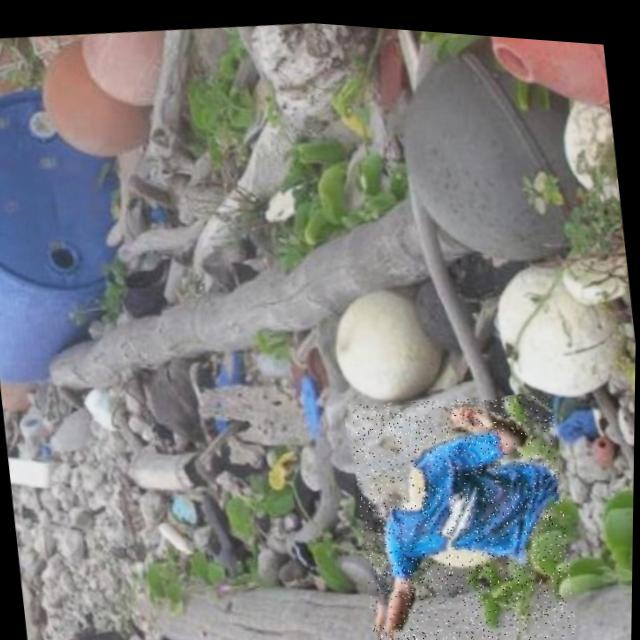Person in Rubble: (346, 373, 581, 640)
